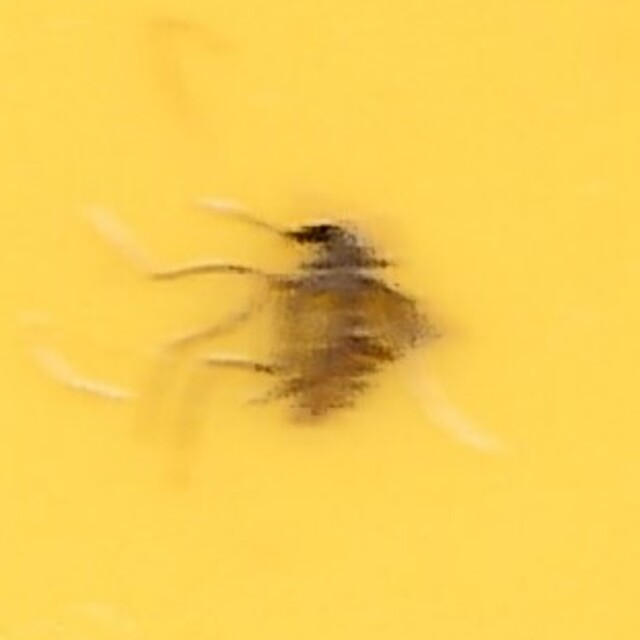Nematocera: (206, 197, 434, 443)
